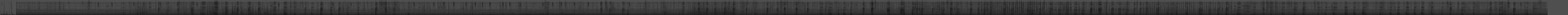Moan: (1090, 0, 1093, 15)
